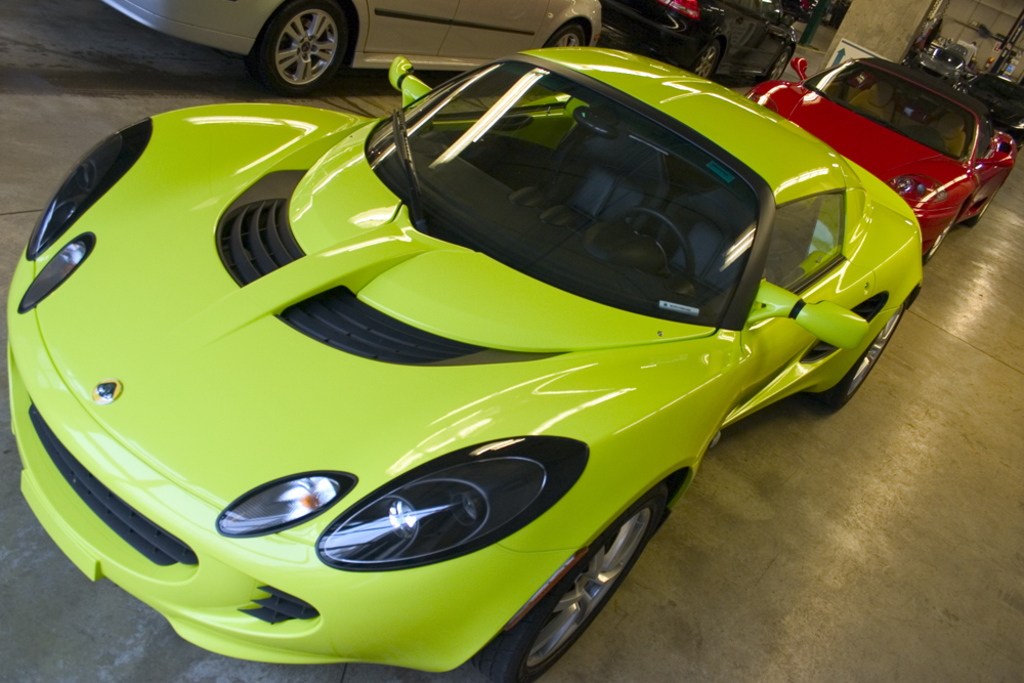Car: (11, 0, 1022, 681)
